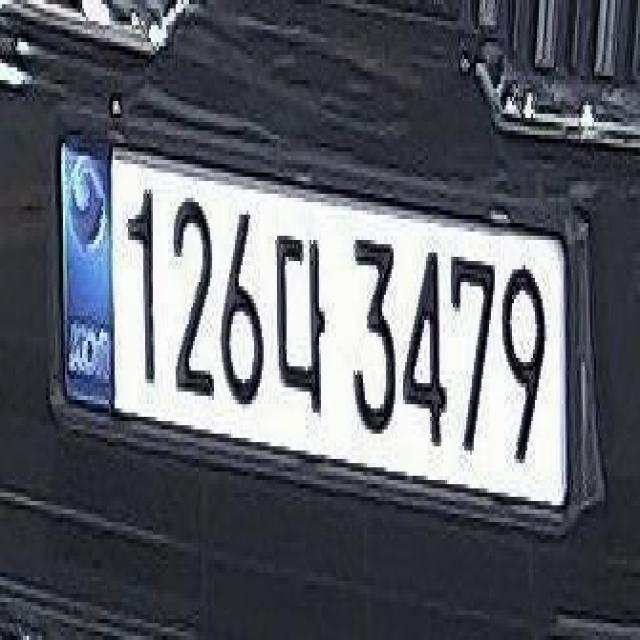illegal_plate: (52, 132, 568, 535)
